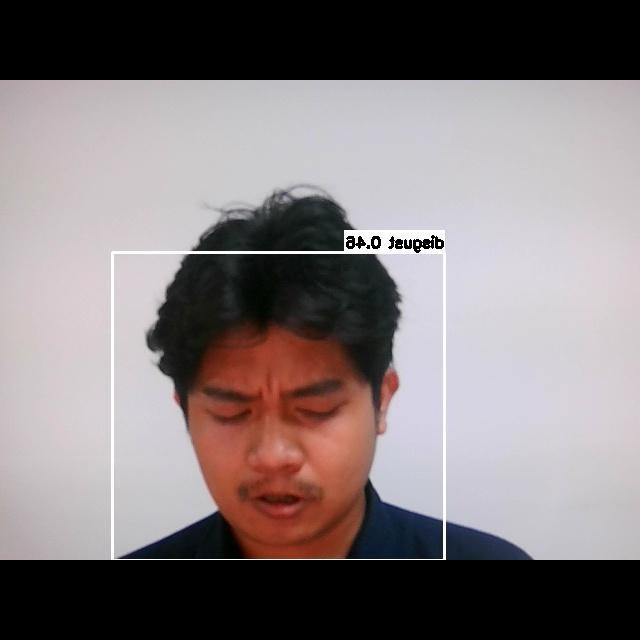Angry: (170, 360, 378, 529)
